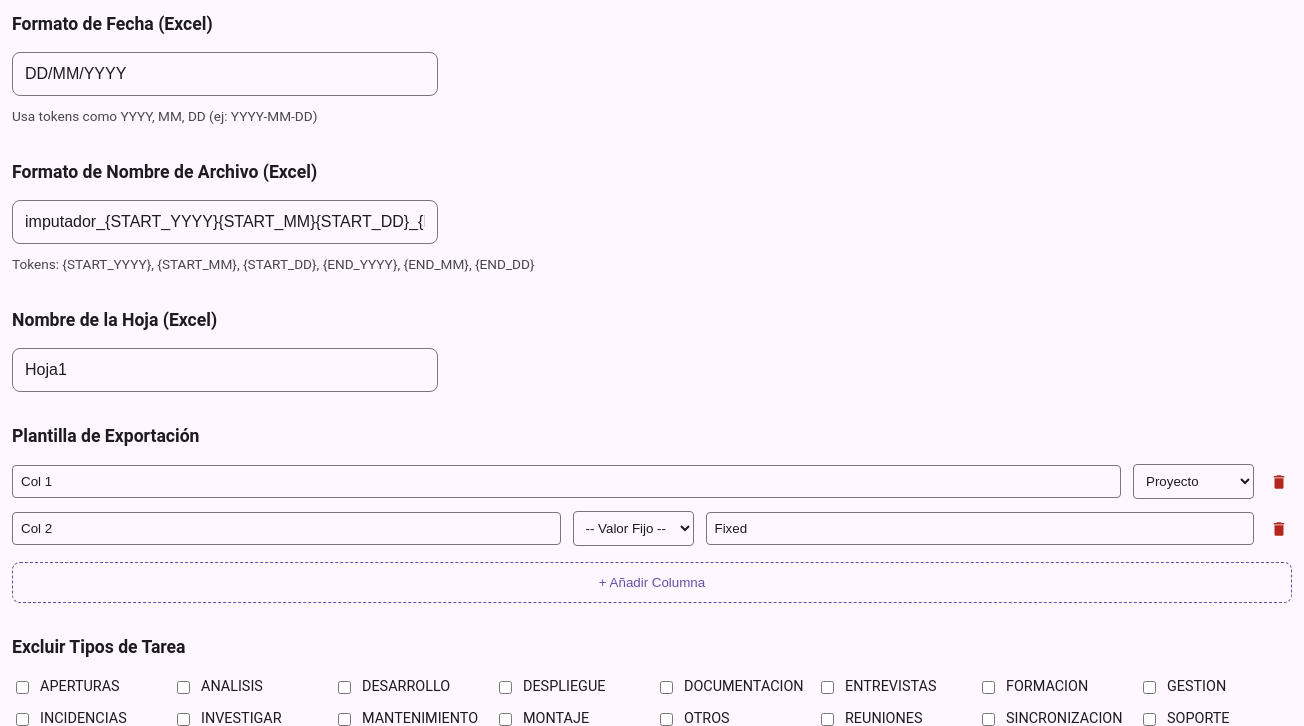
Scenario: ExportSettings.svelte › should allow adding a new mapping
This screenshot has width=1304, height=726.
Click the button "+ Añadir Columna".
click(652, 582)  # box [12,562,1292,603]
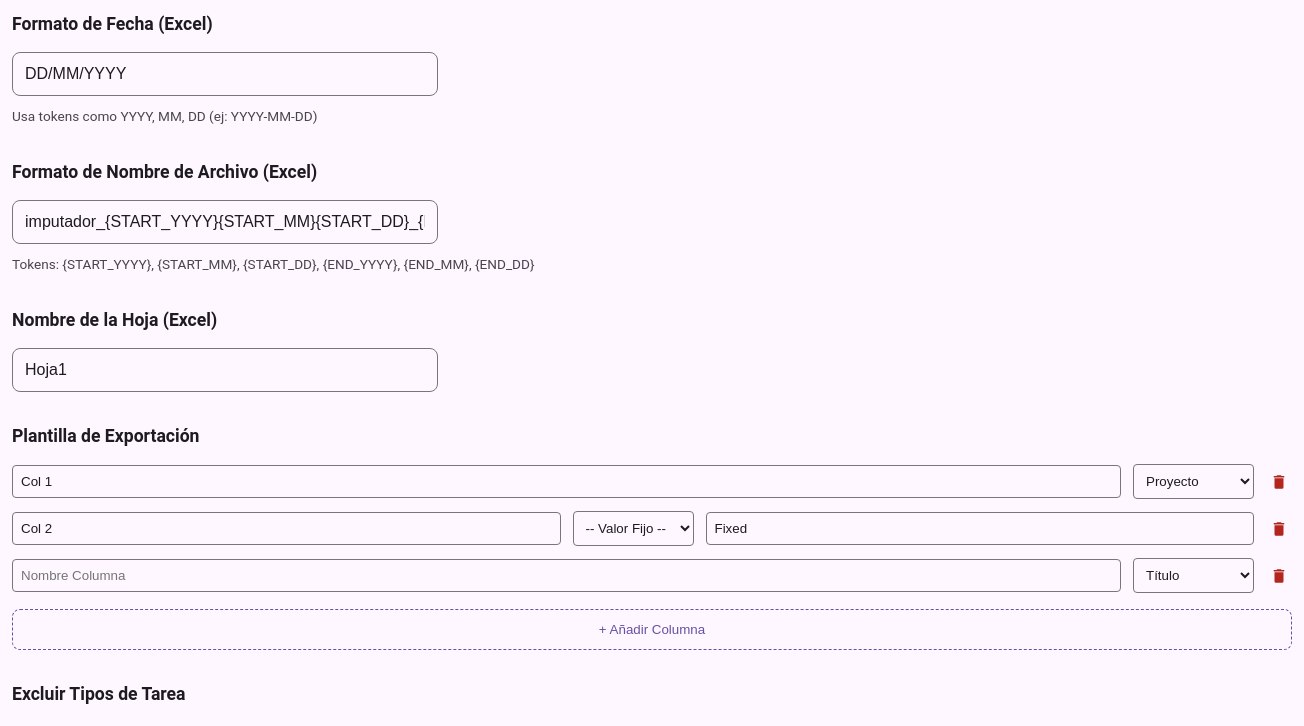
Check: the number of fields with placeholder "Nombre Columna" is 3, box [12,465,1121,498]; [12,512,560,545]; [12,559,1121,592]
